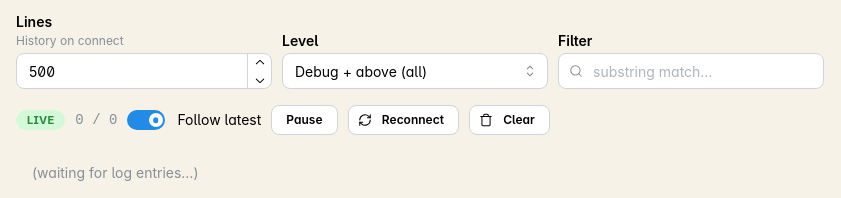
it: LogsPanel connection lifecycle › buffers entries while paused and flushes them on resume
Click the button "Pause" at (304, 120), box [271,105,338,135]
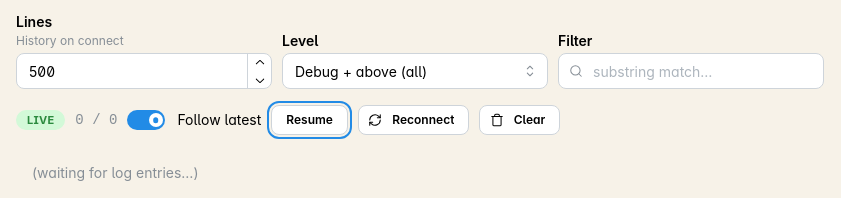
Expected: the text "while-paused" is not shown
Click the button "Resume" at (310, 120), box [271,105,348,135]
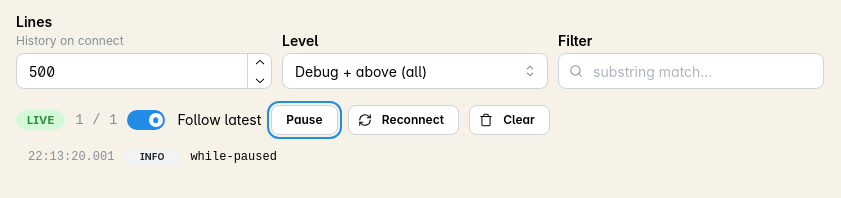
Expected: the text "while-paused" is shown, [190,150,277,164]
